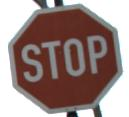Stop sign: (0, 0, 128, 116)
